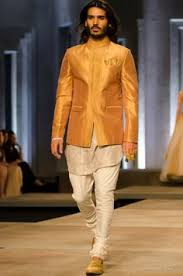Indian_Male: (81, 6, 119, 44)
